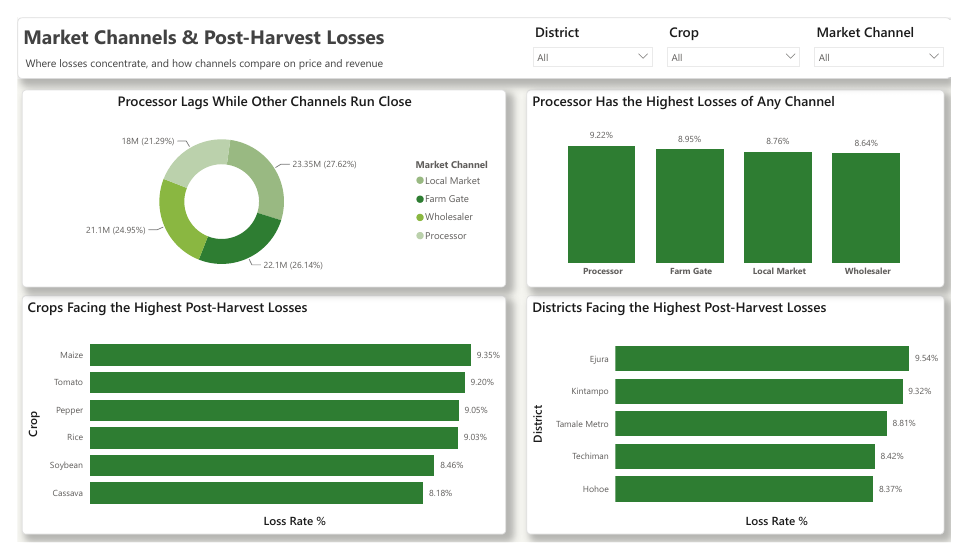

The dashboard page shown, as its layout file describes it:
{"tool":"powerbi","page":{"name":"Post-Harvest Losses","canvas":[1280,720],"ordinal":2},"visuals":[{"type":"clusteredBarChart","title":"Crops Facing the Highest Post-Harvest Losses","fields":{"Category":["Crops.Crop"],"Y":["Farm_Records_RAW.Loss Rate %"]},"box":[6.2,381.2,663.8,327.5],"z":0},{"type":"clusteredBarChart","title":"Districts Facing the Highest Post-Harvest Losses","fields":{"Category":["Districts.District"],"Y":["Farm_Records_RAW.Loss Rate %"]},"box":[697.5,381.2,573.8,327.5],"z":1000},{"type":"clusteredColumnChart","title":"Processor Has the Highest Losses of Any Channel","fields":{"Y":["Farm_Records_RAW.Loss Rate %"],"Category":["Farm_Records_RAW.Market Channel"]},"box":[697.5,98.8,573.8,271.2],"z":2000},{"type":"group","id":"g1","title":"Group 1","box":[0,0,1280,83.8],"z":3000},{"type":"textbox","box":[0,0,1280,83.8],"z":4000,"group":"g1"},{"type":"textbox","box":[6.2,47.5,506.2,35],"z":4000},{"type":"slicer","fields":{"Values":["Districts.District"]},"box":[697.5,4.2,183.8,79.6],"z":5000,"group":"g1"},{"type":"donutChart","title":"Processor Lags While Other Channels Run Close","fields":{"Category":["Farm_Records_RAW.Market Channel"],"Y":["Farm_Records_RAW.Total Revenue"]},"box":[6.2,98.8,663.8,271.2],"z":5000},{"type":"slicer","fields":{"Values":["Crops.Crop"]},"box":[881.2,4.2,201.2,79.6],"z":6000,"group":"g1"},{"type":"slicer","fields":{"Values":["Farm_Records_RAW.Market Channel"]},"box":[1082.5,4.2,197.5,79.6],"z":7000,"group":"g1"}]}

Visuals, with their boxes in screenshot pixels (x1, y1, x2, y2), scaled from the page's 1280x720 canvas onto the 969x560 screenshot:
"Crops Facing the Highest Post-Harvest Losses" clusteredBarChart: pyautogui.locateOnScreen(5, 296, 507, 551)
"Districts Facing the Highest Post-Harvest Losses" clusteredBarChart: pyautogui.locateOnScreen(528, 296, 962, 551)
"Processor Has the Highest Losses of Any Channel" clusteredColumnChart: pyautogui.locateOnScreen(528, 77, 962, 288)
"Group 1" group: pyautogui.locateOnScreen(0, 0, 968, 65)
textbox: pyautogui.locateOnScreen(0, 0, 968, 65)
textbox: pyautogui.locateOnScreen(5, 37, 388, 64)
slicer - Districts.District: pyautogui.locateOnScreen(528, 3, 667, 65)
"Processor Lags While Other Channels Run Close" donutChart: pyautogui.locateOnScreen(5, 77, 507, 288)
slicer - Crops.Crop: pyautogui.locateOnScreen(667, 3, 819, 65)
slicer - Farm_Records_RAW.Market Channel: pyautogui.locateOnScreen(819, 3, 968, 65)
